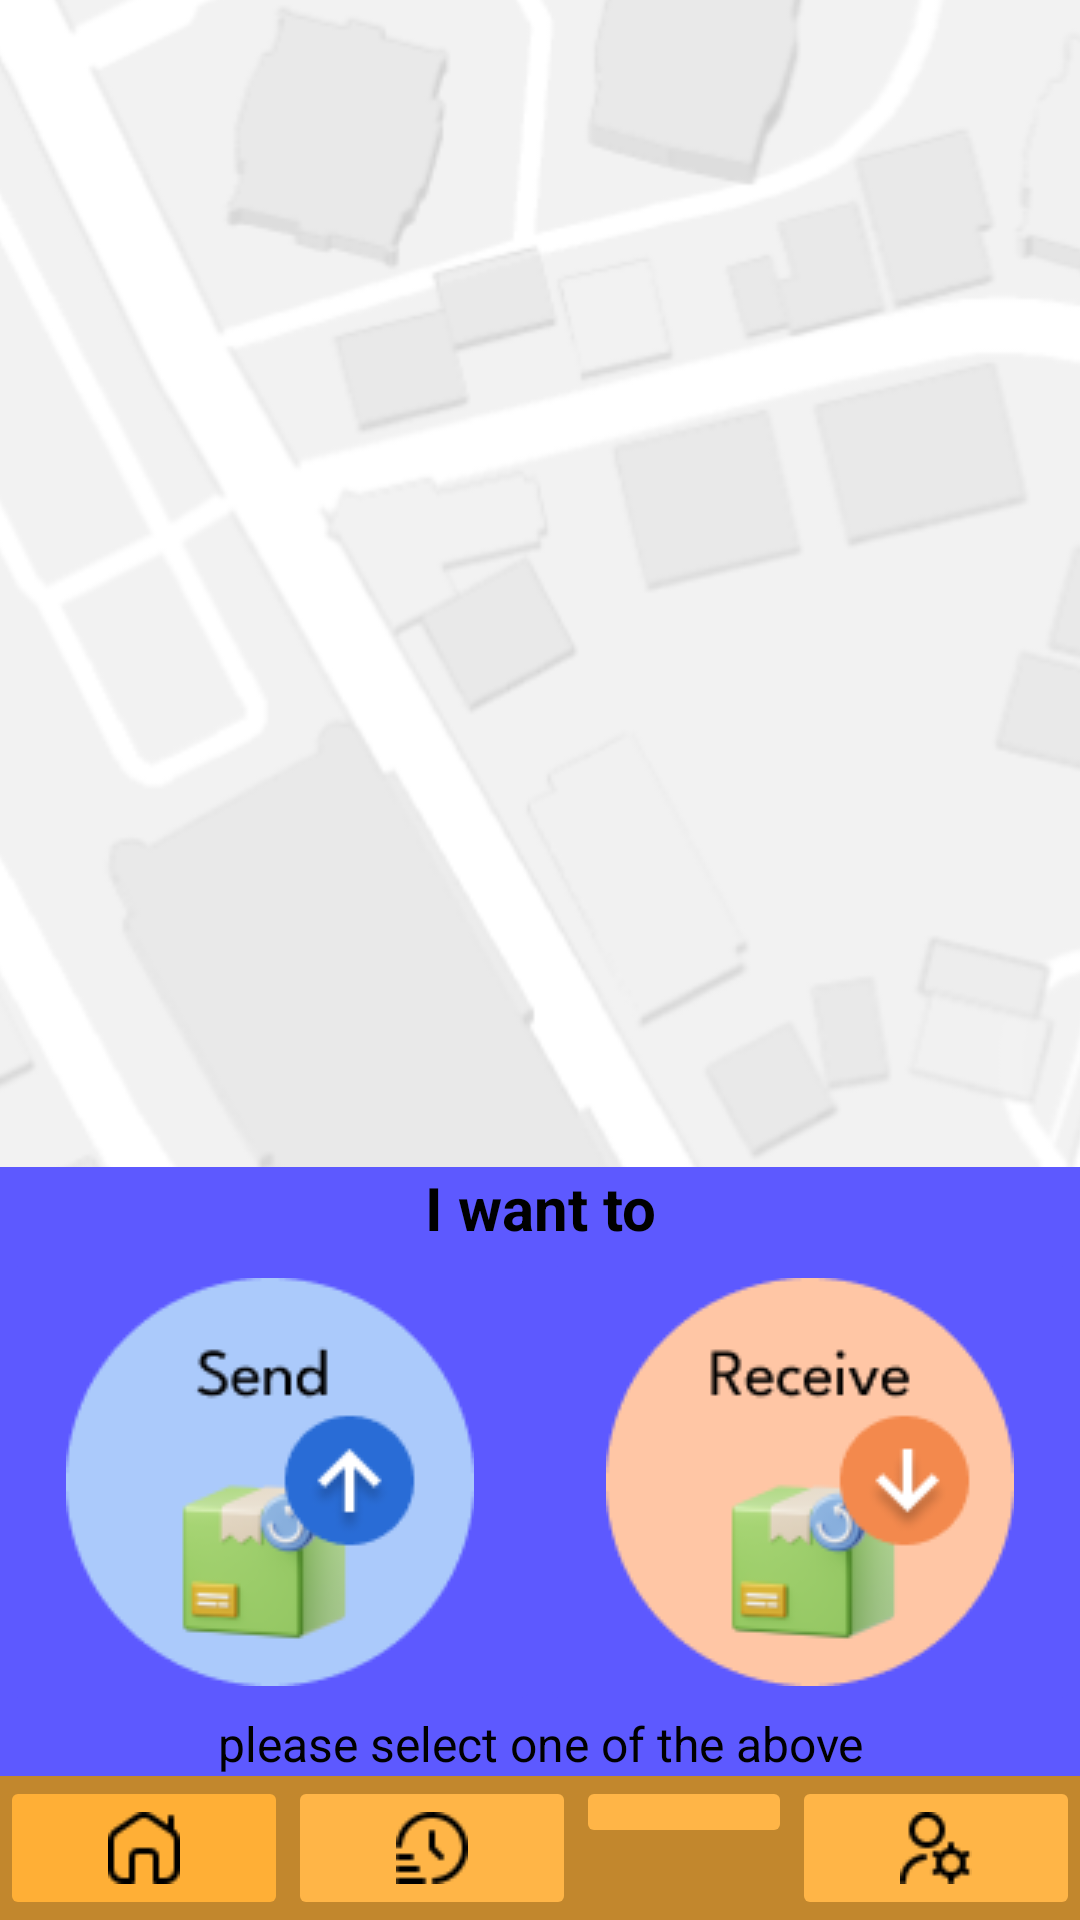

Screen size 1080×1920. Icon name, then its center in pixels as (x,y):
Activity: (432,1848)
Home: (144,1848)
Profile: (936,1848)
